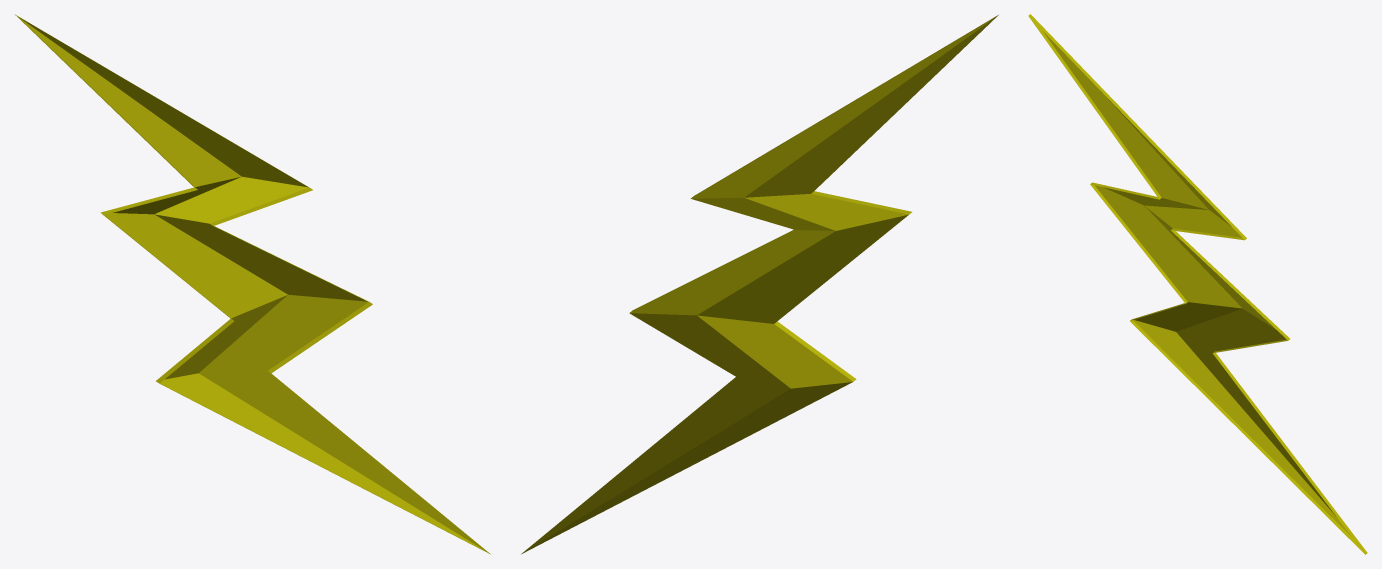
File: LightningBolt.fbx
The picture shows the model from 3 angles, left to right: view 1: azimuth 30°, elevation 25°; view 2: azimuth 150°, elevation 25°; view 3: azimuth 330°, elevation 25°; orthographic projection. The views are drawn at different scales.
Visible parts, largest first — view 1: polySurface5; view 2: polySurface5; view 3: polySurface5.
Part boxes in pixels (x1,y1,x2,y2): polySurface5: [14, 14, 490, 554]; polySurface5: [521, 15, 998, 554]; polySurface5: [1028, 14, 1367, 554].
Bounding box in the file's own units: 10.01 × 13.17 × 0.6714.
